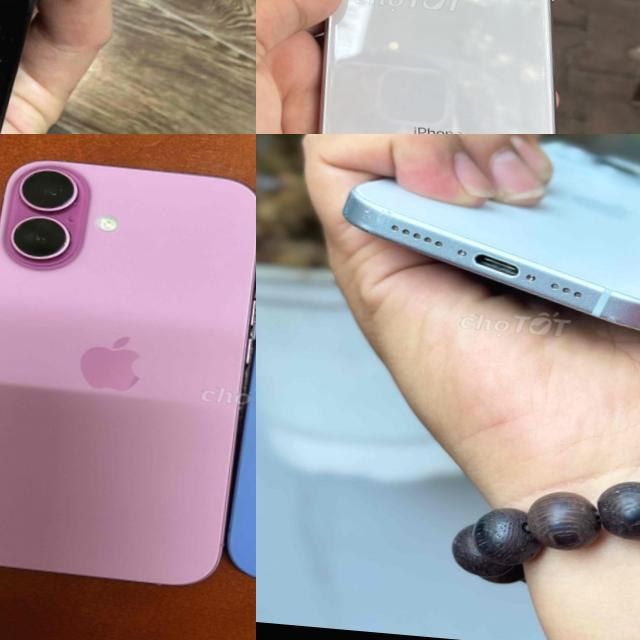scratch: (326, 180, 416, 240), (591, 300, 640, 338)
